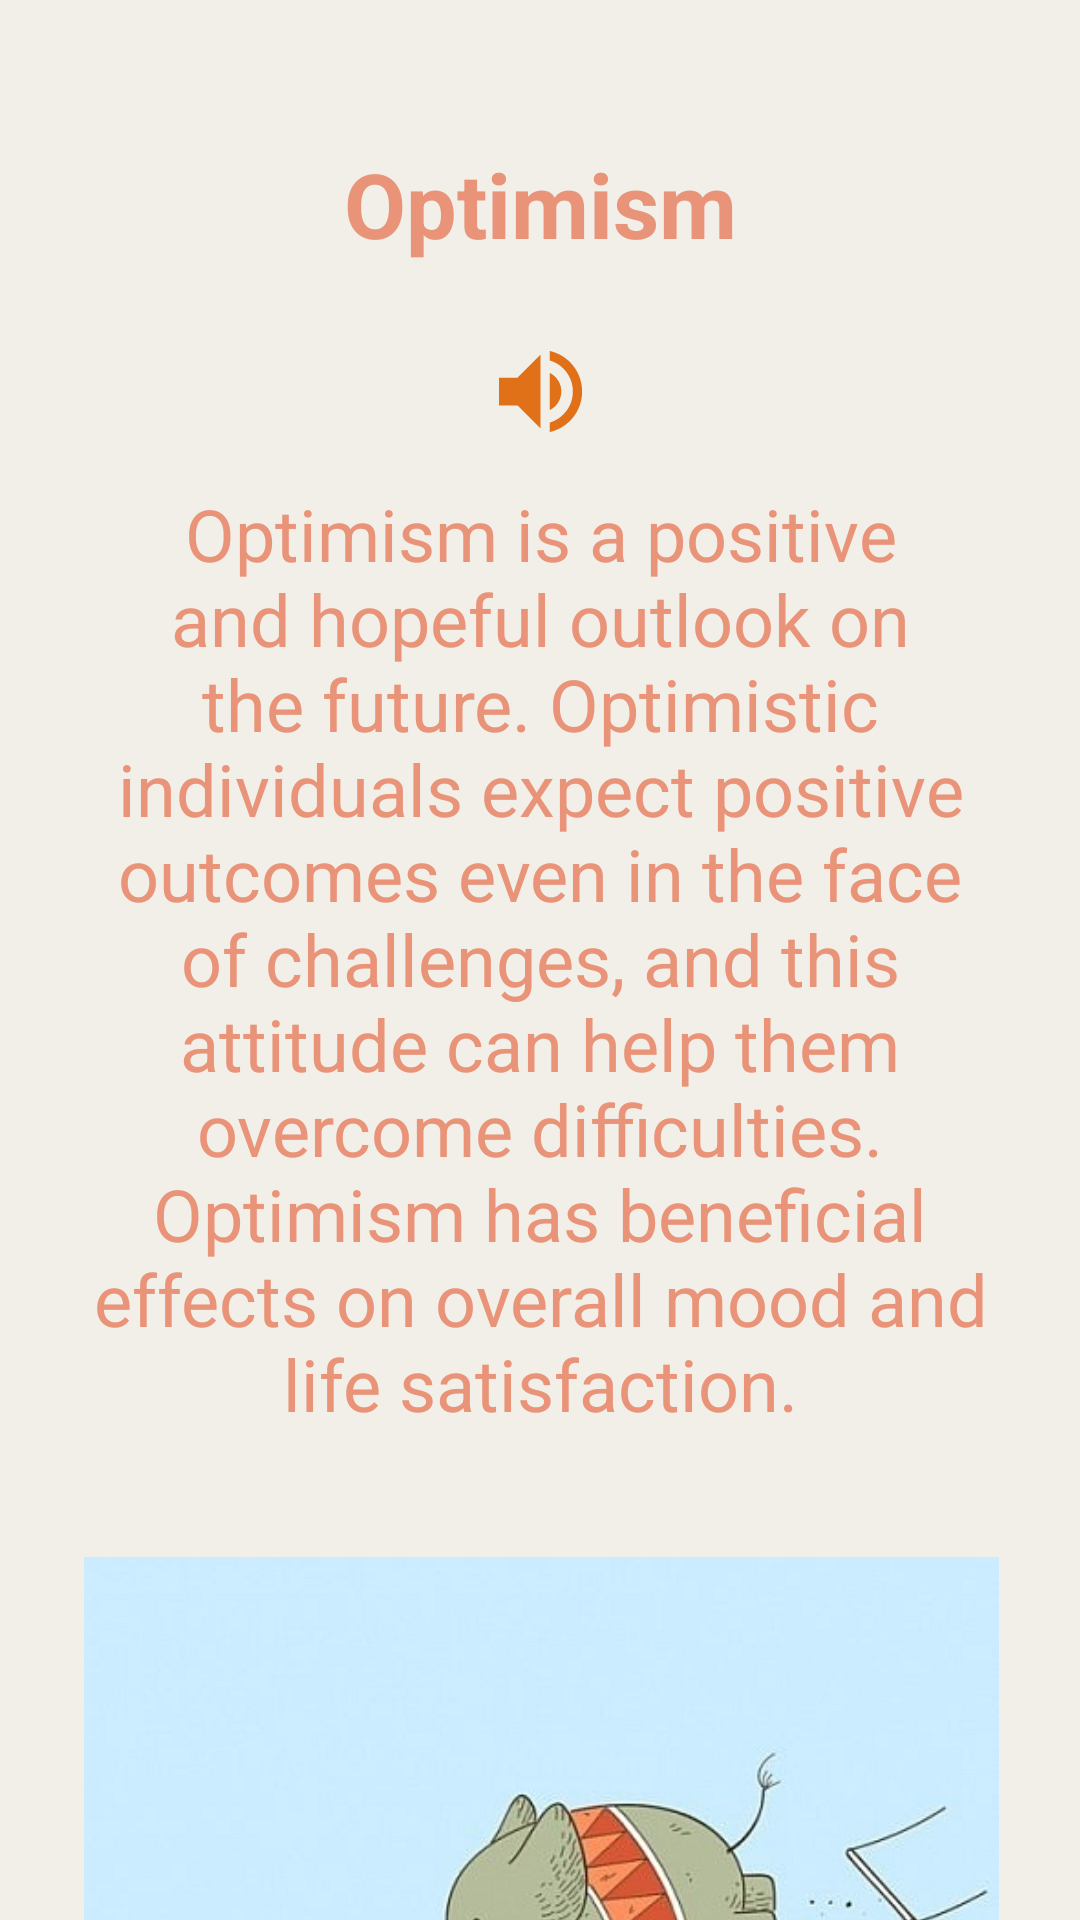

Icons on this 1080*1920 Android screen, each with its box as detection(x1, y1, x2, y2):
volume up: detection(499, 351, 582, 432)
